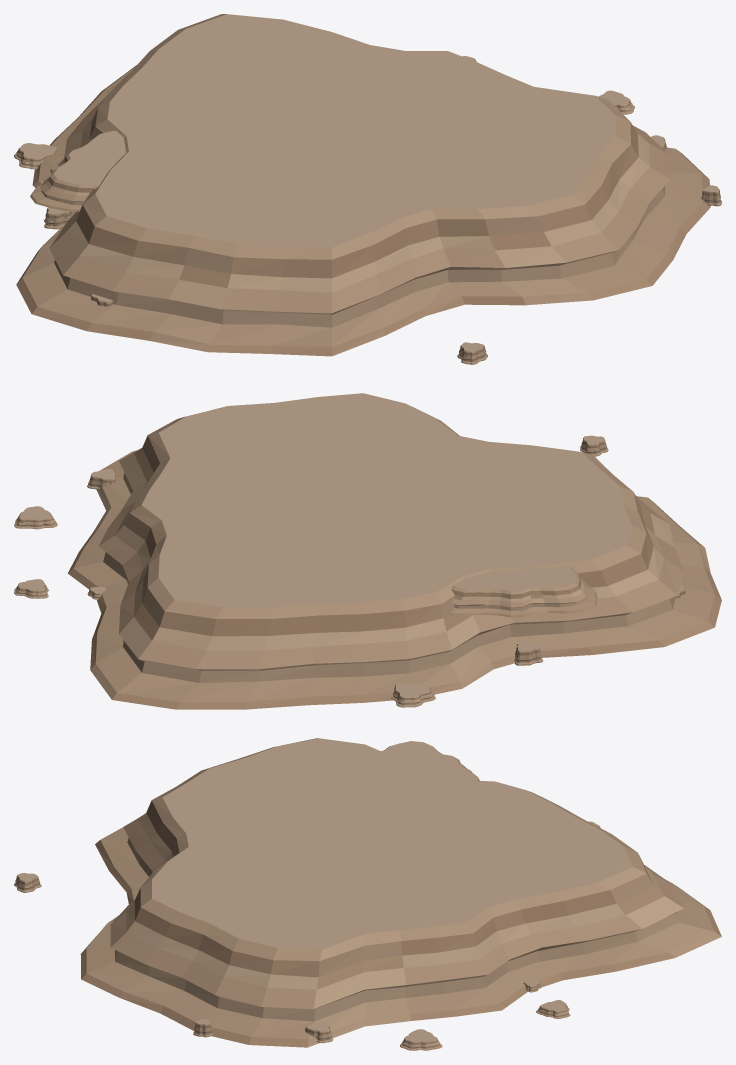
File: SandstoneShelfA.glb
3 views of the same model, one above another, from view 1: azimuth 30°, elevation 25°; view 2: azimuth 150°, elevation 25°; view 3: azimuth 270°, elevation 25° (orthographic). The views are drawn at different scales.
Visible parts, largest first — view 1: West eroded shelf, Split western cap, Detached sandstone fragment.004; view 2: West eroded shelf, Split western cap, Detached sandstone fragment.004, Detached sandstone fragment.005, Detached sandstone fragment.010, Detached sandstone fragment.003; view 3: West eroded shelf, Split western cap, Detached sandstone fragment.005.
Boxes of the visible parts, x1,y1,x2,y2 form: West eroded shelf: [16, 14, 710, 356]; Split western cap: [30, 131, 125, 211]; Detached sandstone fragment.004: [14, 143, 57, 169]; West eroded shelf: [67, 393, 721, 709]; Split western cap: [449, 565, 597, 617]; Detached sandstone fragment.004: [391, 683, 435, 707]; Detached sandstone fragment.005: [14, 506, 57, 529]; Detached sandstone fragment.010: [514, 642, 542, 665]; Detached sandstone fragment.003: [14, 579, 48, 598]; West eroded shelf: [80, 738, 721, 1047]; Split western cap: [381, 741, 479, 780]; Detached sandstone fragment.005: [400, 1029, 442, 1050].
Bounding box in the file's own units: 10.25 × 1.06 × 10.7.
